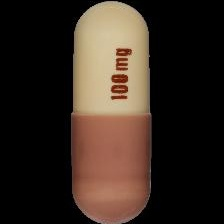63629-5361: (0, 0, 224, 224)
